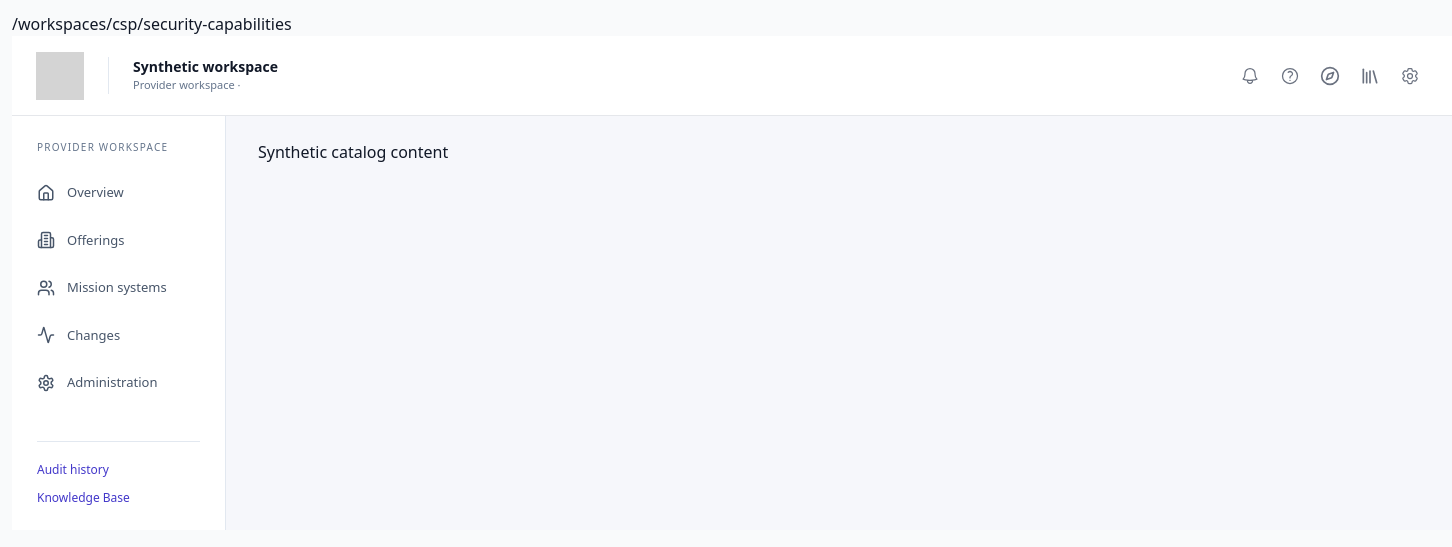
Scenario: authorization-led provider navigation › provides the mock Offerings destination through the existing authorization route
Step 1. Click the link "Offerings" → (81, 240), box [37,230,124,249]
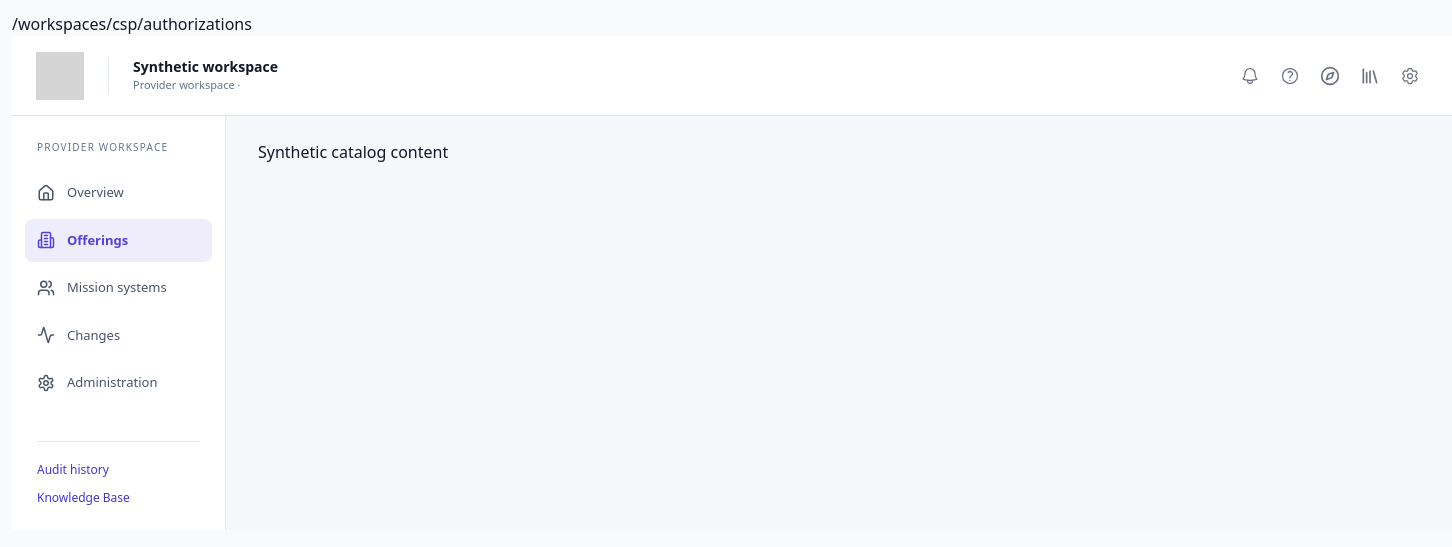
Expected: the text named "Current route" reads "/workspaces/csp/authorizations", [12,13,252,35]
